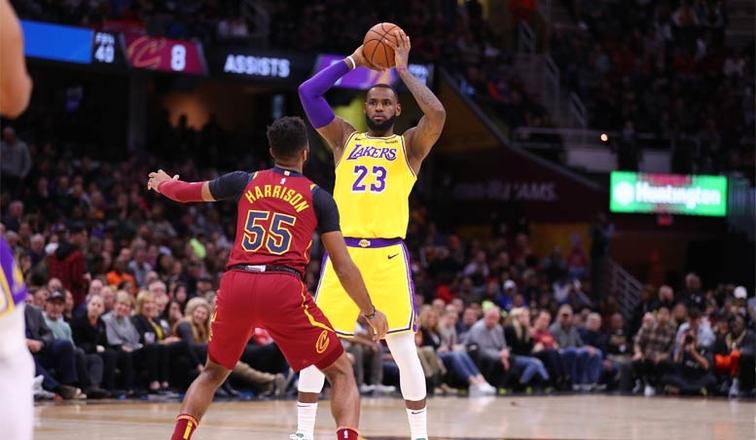Basketball: (360, 19, 405, 69)
